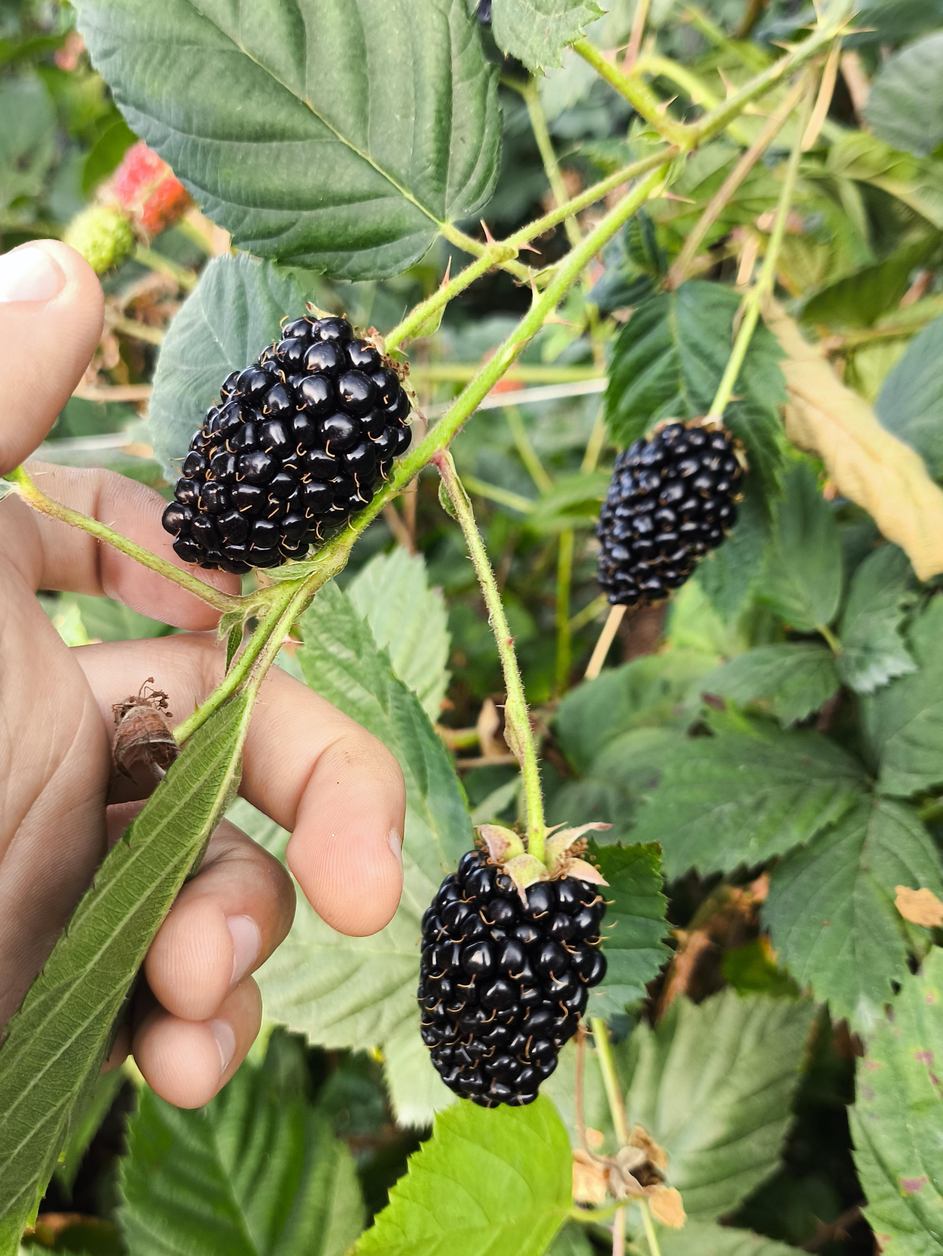maduro: (182, 308, 403, 562), (414, 856, 606, 1099), (597, 421, 741, 605)
